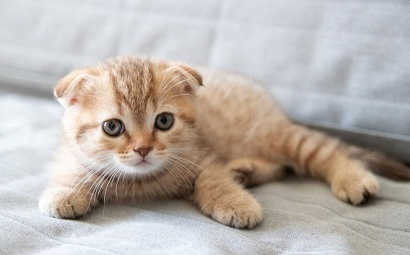cat: (50, 52, 266, 204)
